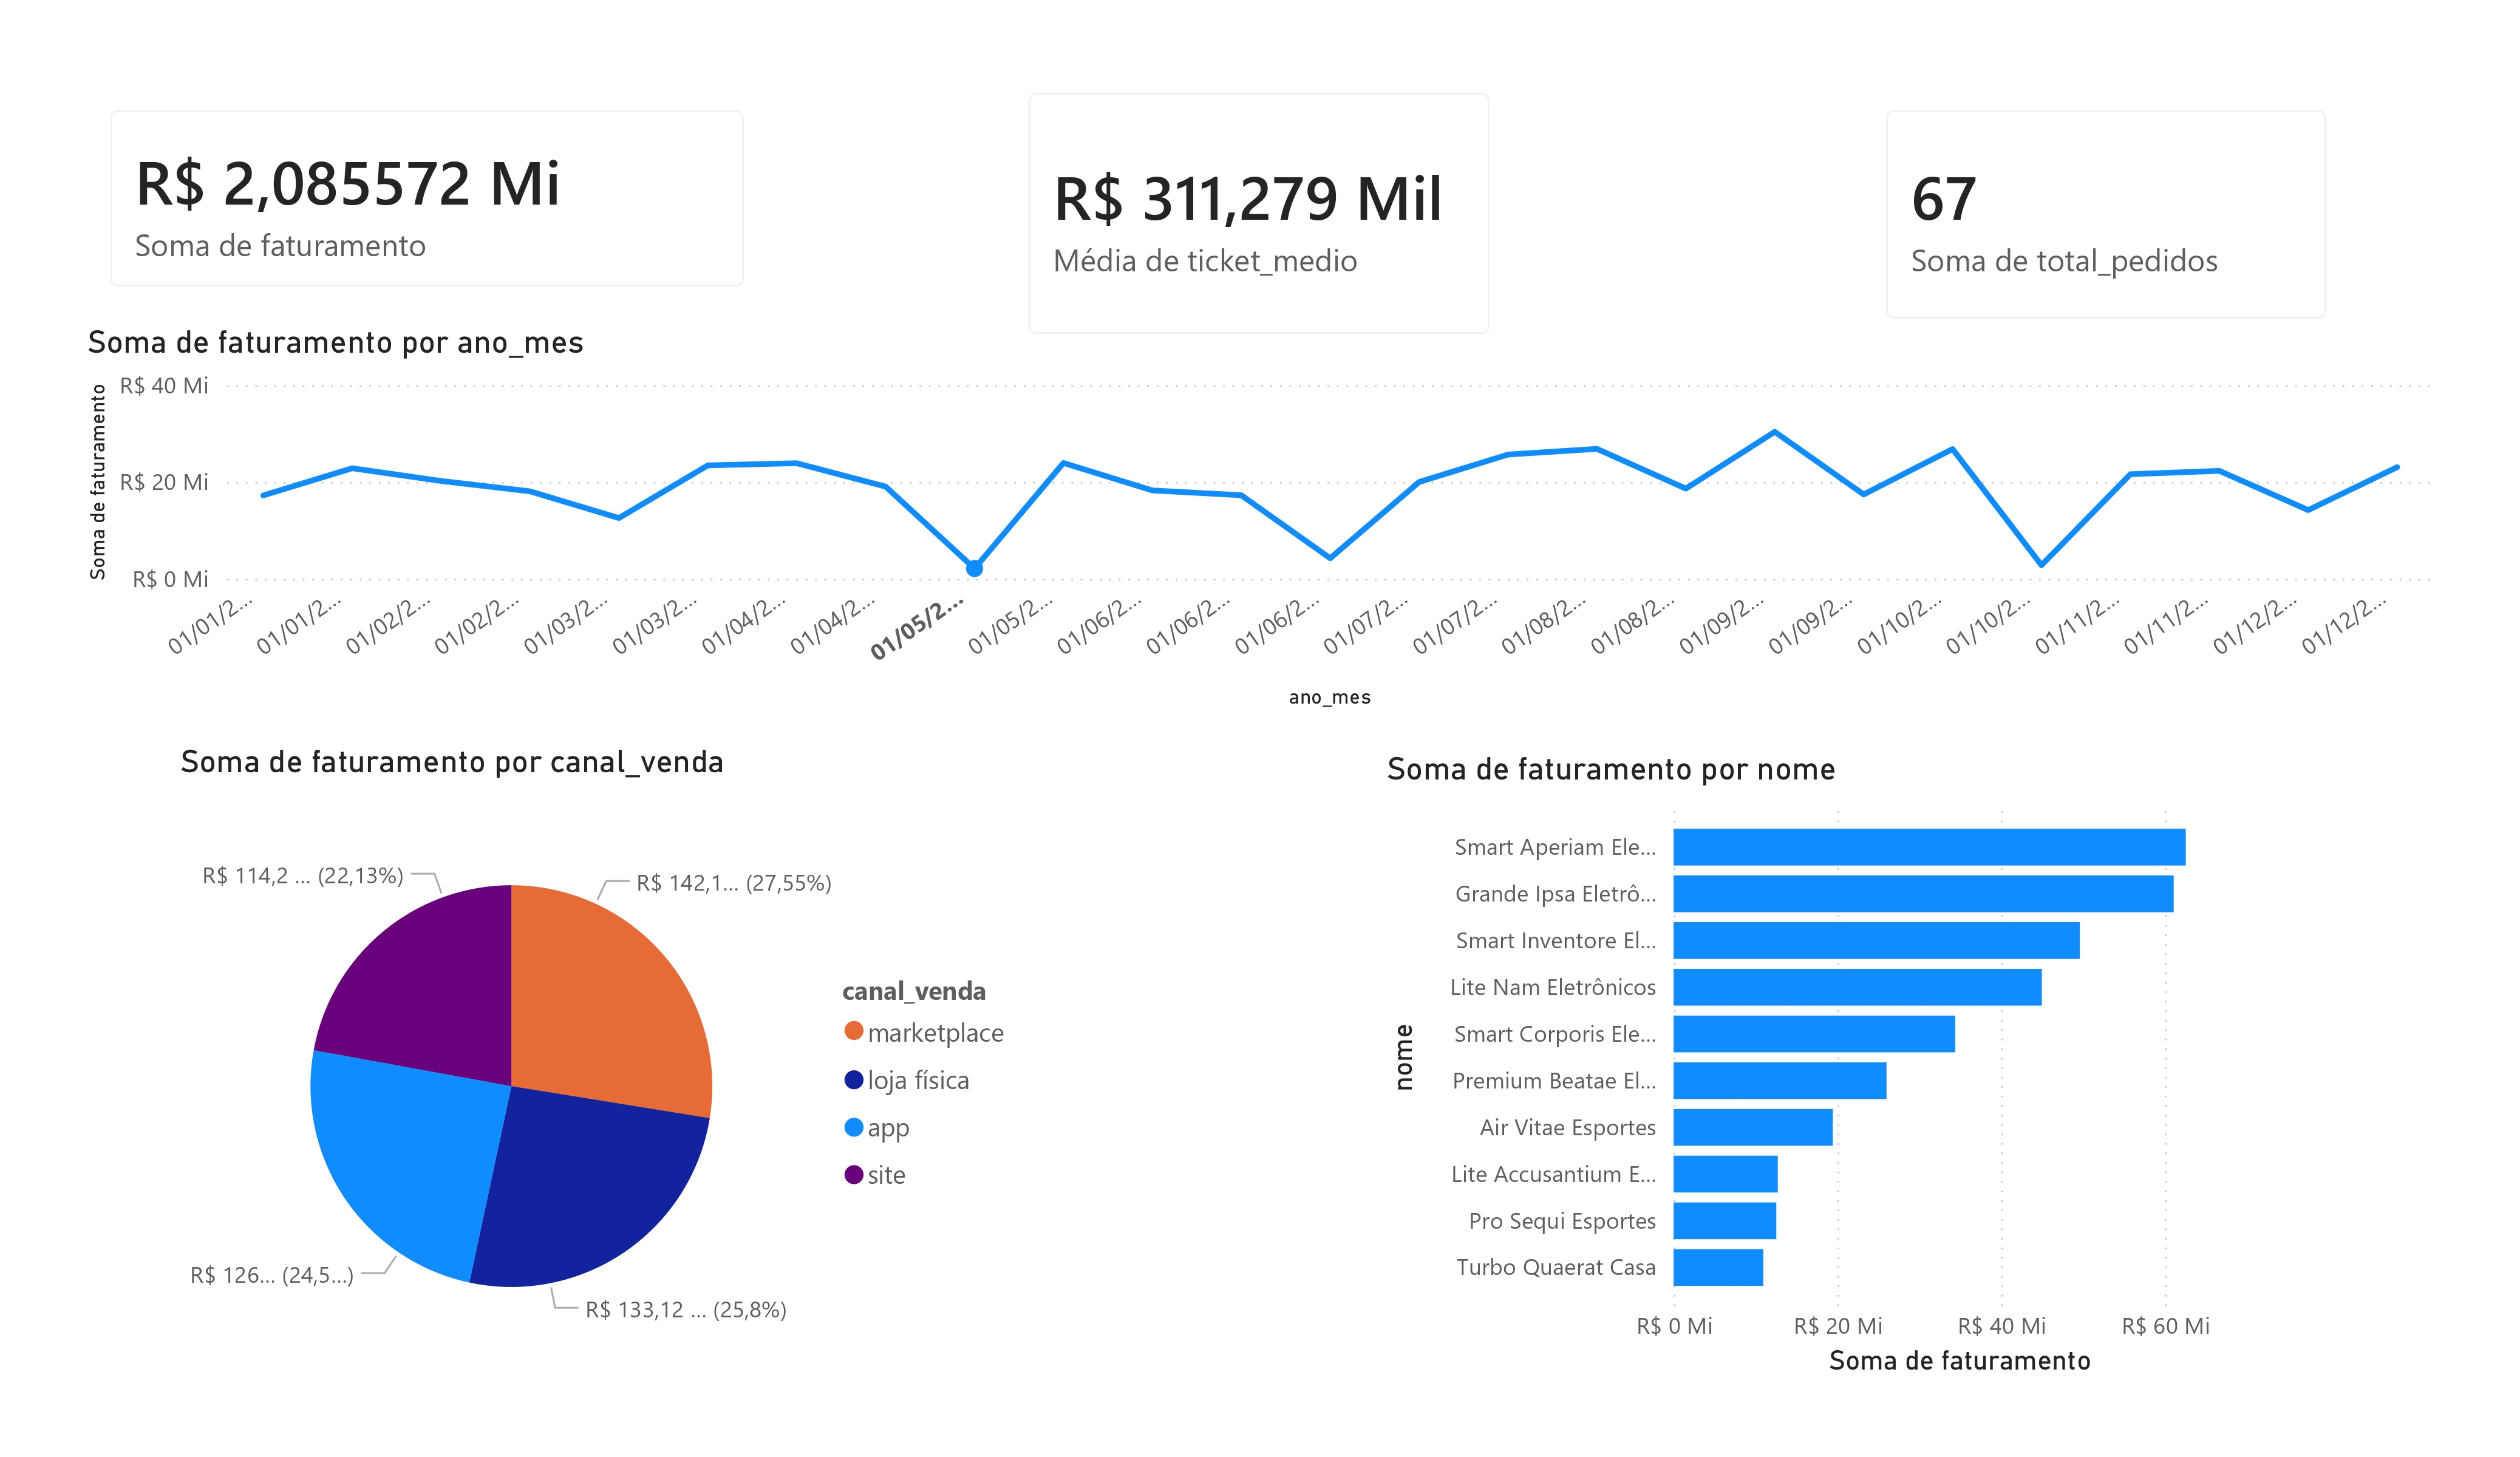

What the dashboard file says about the page in this screenshot:
{"tool":"powerbi","page":{"name":"Página 1","canvas":[1280,720],"ordinal":0},"visuals":[{"type":"lineChart","fields":{"Y":["Sum(vw_faturamento_mensal.faturamento)"],"Category":["vw_faturamento_mensal.ano_mes"]},"box":[16.7,145.6,1246.7,208.9],"z":0},{"type":"clusteredBarChart","fields":{"Category":["vw_top_produtos.nome"],"Y":["Sum(vw_top_produtos.faturamento)"]},"box":[702.2,371.1,486.7,334.4],"z":1},{"type":"cardVisual","fields":{"Data":["Sum(vw_faturamento_mensal.faturamento)"]},"box":[16.7,16.7,368.9,127.8],"z":2},{"type":"cardVisual","fields":{"Data":["Avg(vw_faturamento_mensal.ticket_medio)"]},"box":[501.1,7.8,277.8,161.1],"z":3},{"type":"cardVisual","fields":{"Data":["Sum(vw_faturamento_mensal.total_pedidos)"]},"box":[953.3,16.7,266.7,144.4],"z":4},{"type":"pieChart","fields":{"Category":["vw_vendas_por_canal.canal_venda"],"Y":["Sum(vw_vendas_por_canal.faturamento)"]},"box":[65.6,366.7,454.4,344.4],"z":5}]}

Visuals, with their boxes on the page's 1280x720 design canvas (x1, y1, x2, y2). These are canvas units, not pixel positions in the 2520x1457 screenshot, which may show the page scaled, cropped or inside an application window:
lineChart - Sum(vw_faturamento_mensal.faturamento) x vw_faturamento_mensal.ano_mes: {"x1": 17, "y1": 146, "x2": 1263, "y2": 354}
clusteredBarChart - vw_top_produtos.nome x Sum(vw_top_produtos.faturamento): {"x1": 702, "y1": 371, "x2": 1189, "y2": 706}
cardVisual - Sum(vw_faturamento_mensal.faturamento): {"x1": 17, "y1": 17, "x2": 386, "y2": 144}
cardVisual - Avg(vw_faturamento_mensal.ticket_medio): {"x1": 501, "y1": 8, "x2": 779, "y2": 169}
cardVisual - Sum(vw_faturamento_mensal.total_pedidos): {"x1": 953, "y1": 17, "x2": 1220, "y2": 161}
pieChart - vw_vendas_por_canal.canal_venda x Sum(vw_vendas_por_canal.faturamento): {"x1": 66, "y1": 367, "x2": 520, "y2": 711}
